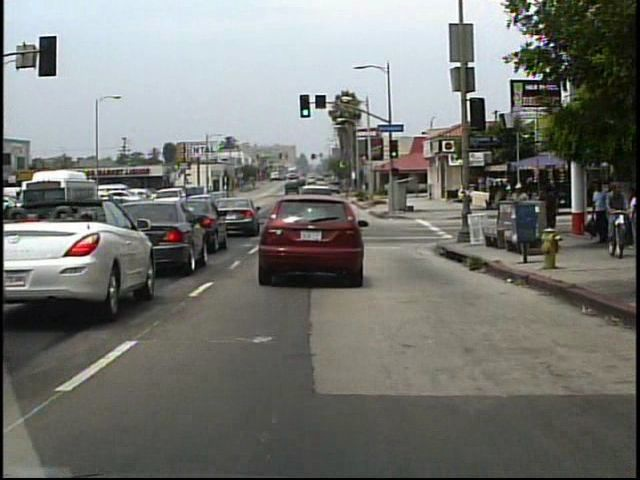person: (509, 180, 532, 240), (591, 182, 612, 246), (542, 177, 562, 243), (603, 181, 624, 241)
